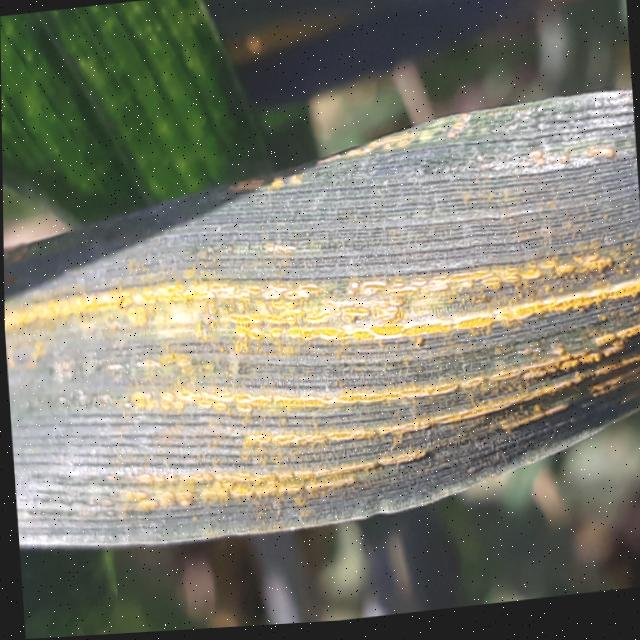yellow_rust: (2, 103, 640, 552), (210, 0, 399, 83), (518, 0, 625, 16)
